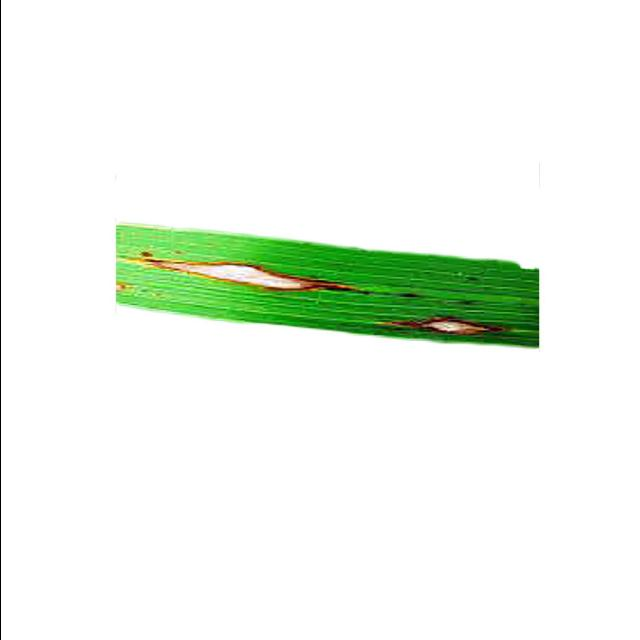Leaf blast: (42, 136, 598, 451)
